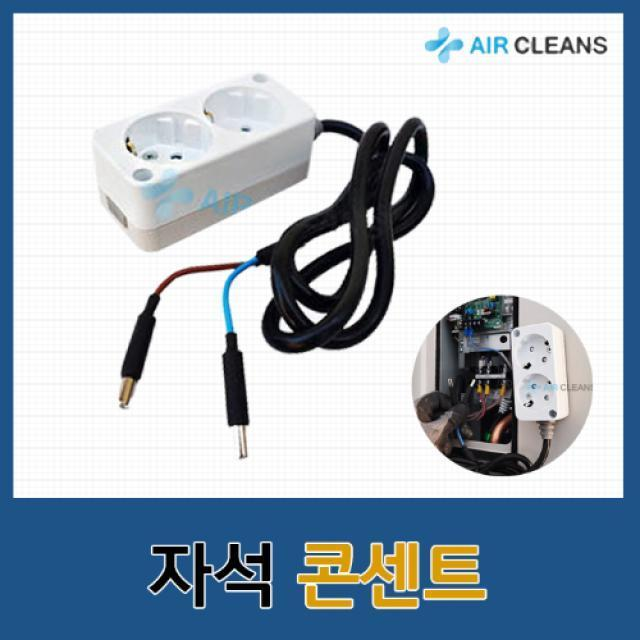typeb: (496, 314, 582, 440)
